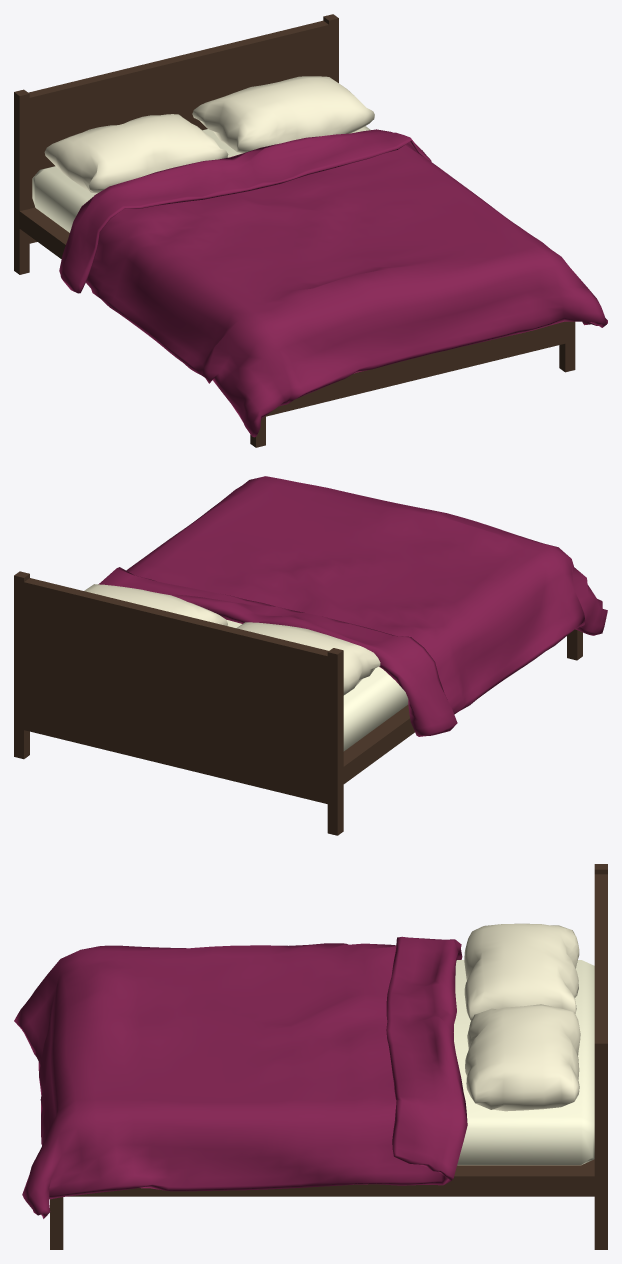
The model's file is Bed_Made1.fbx.
3 renders of one model, top to bottom at view 1: azimuth 30°, elevation 25°; view 2: azimuth 150°, elevation 25°; view 3: azimuth 270°, elevation 25°, orthographic. The views are drawn at different scales.
Visible parts, largest first — view 1: Bed Blanket - Made, Bed Frame, Bed Pillow - Made, Bed Mattress; view 2: Bed Blanket - Made, Bed Frame, Bed Pillow - Made, Bed Mattress; view 3: Bed Blanket - Made, Bed Pillow - Made, Bed Frame, Bed Mattress.
Boxes of the visible parts, box(x1,y1,x2,y2) form: Bed Blanket - Made: box(59, 129, 607, 437); Bed Frame: box(14, 14, 575, 447); Bed Pillow - Made: box(44, 76, 374, 193); Bed Mattress: box(32, 126, 370, 232); Bed Blanket - Made: box(98, 476, 607, 736); Bed Frame: box(14, 571, 582, 835); Bed Pillow - Made: box(84, 584, 380, 695); Bed Mattress: box(226, 620, 408, 751); Bed Blanket - Made: box(14, 936, 467, 1218); Bed Pillow - Made: box(464, 923, 580, 1111); Bed Frame: box(50, 864, 607, 1249); Bed Mattress: box(454, 960, 594, 1165).
Size of the model in its own units: 192 by 87 by 227.
